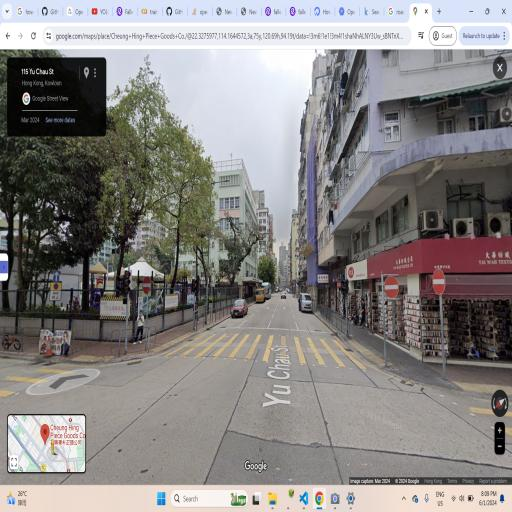Roads: (120, 287, 462, 466)
Trees: (152, 100, 209, 292)
